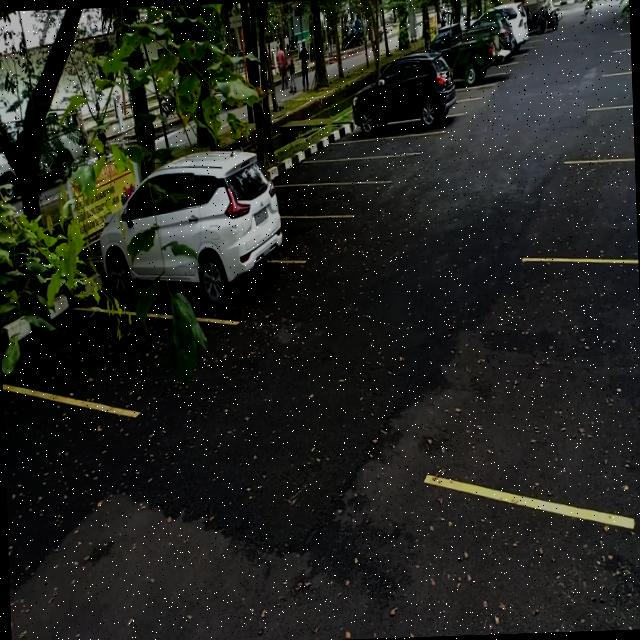empty: (494, 254, 640, 531), (2, 300, 156, 415), (554, 158, 638, 265), (278, 180, 370, 222), (323, 131, 430, 161), (298, 156, 394, 186), (586, 103, 634, 162), (594, 68, 632, 108)
occupied: (98, 222, 284, 327), (348, 82, 464, 140)
